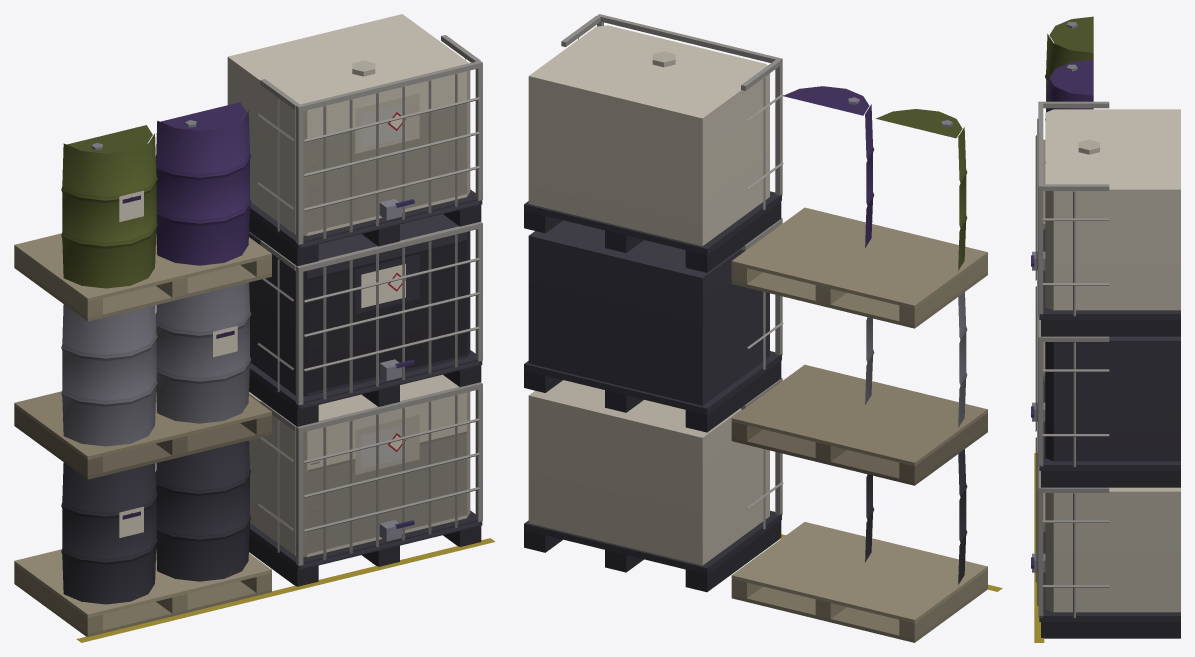
File: drum_ibc_stack_b.glb
The picture shows the model from 3 angles, left to right: view 1: azimuth 30°, elevation 25°; view 2: azimuth 150°, elevation 25°; view 3: azimuth 270°, elevation 25°; orthographic projection. The views are drawn at different scales.
Parts seen in each view (by area): view 1: drum_ibc_stack; view 2: drum_ibc_stack; view 3: drum_ibc_stack.
Boxes of the visible parts, x1=… form: drum_ibc_stack: x1=14, y1=14, x2=495, y2=642; drum_ibc_stack: x1=524, y1=14, x2=1002, y2=642; drum_ibc_stack: x1=1031, y1=16, x2=1180, y2=642.
Bounding box in the file's own units: 2.7 × 3 × 0.9.
